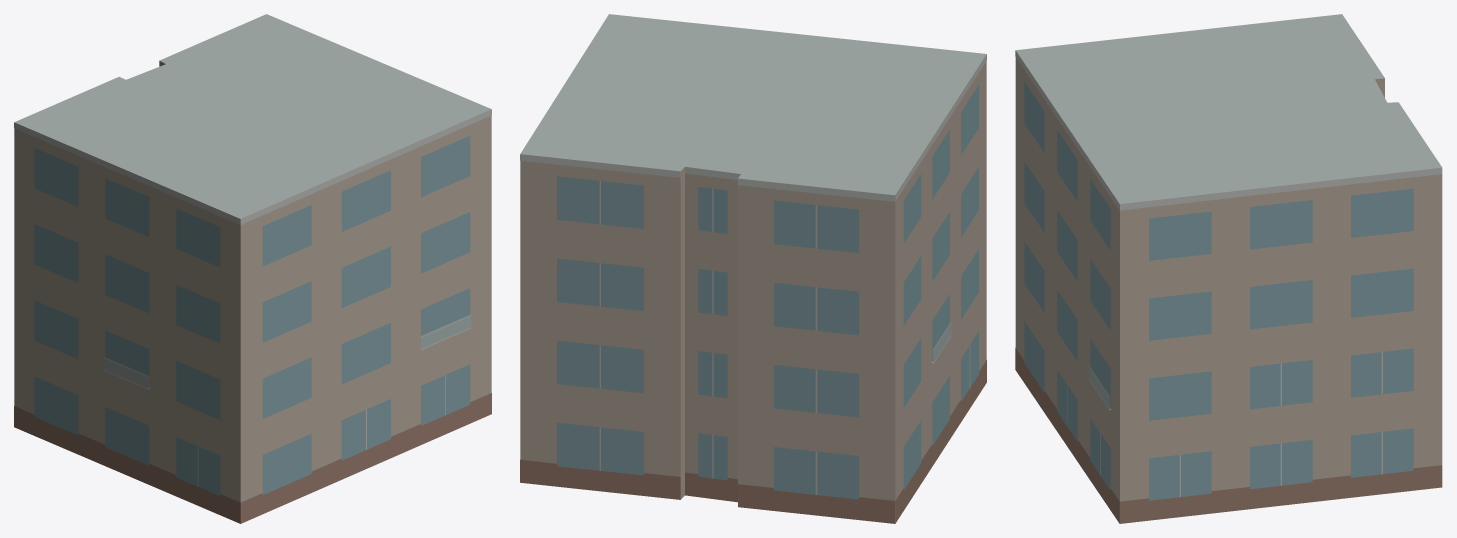
The model's file is survey-upis-32568877.glb.
3 views of the same model, side by side, from view 1: azimuth 30°, elevation 25°; view 2: azimuth 150°, elevation 25°; view 3: azimuth 270°, elevation 25° (orthographic). The views are drawn at different scales.
Parts seen in each view (by area): view 1: survey-upis-32568877.tmp; view 2: survey-upis-32568877.tmp; view 3: survey-upis-32568877.tmp.
Boxes of the visible parts, x1,y1,x2,y2 form: survey-upis-32568877.tmp: (14, 14, 491, 523); survey-upis-32568877.tmp: (520, 14, 986, 523); survey-upis-32568877.tmp: (1015, 14, 1442, 523).
Size of the model in its own units: 15.57 by 12.2 by 14.77.
